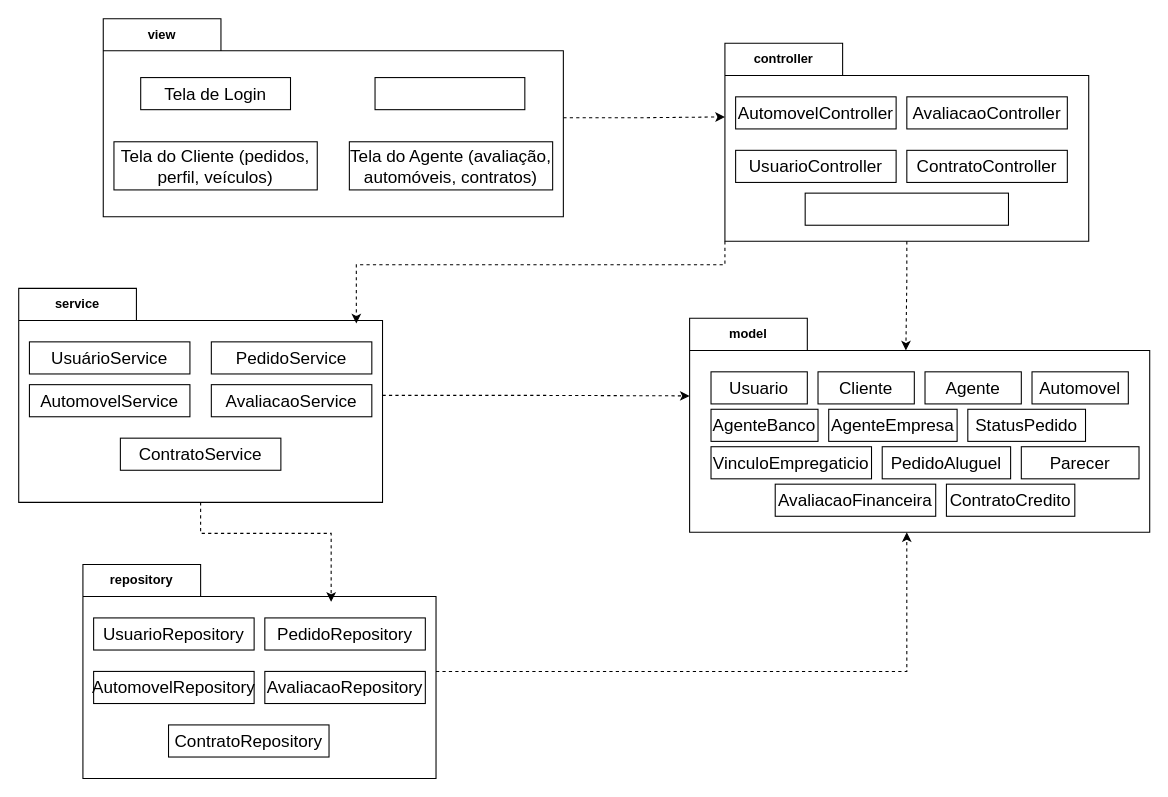
This 1168x797 diagram has some shape labels left out. The shapes that lost their labels are listed below. From the top down, each one's centre as x and y in pixels, then its label:
point (449, 93): Tela de Cadastro
point (906, 208): PedidoController
